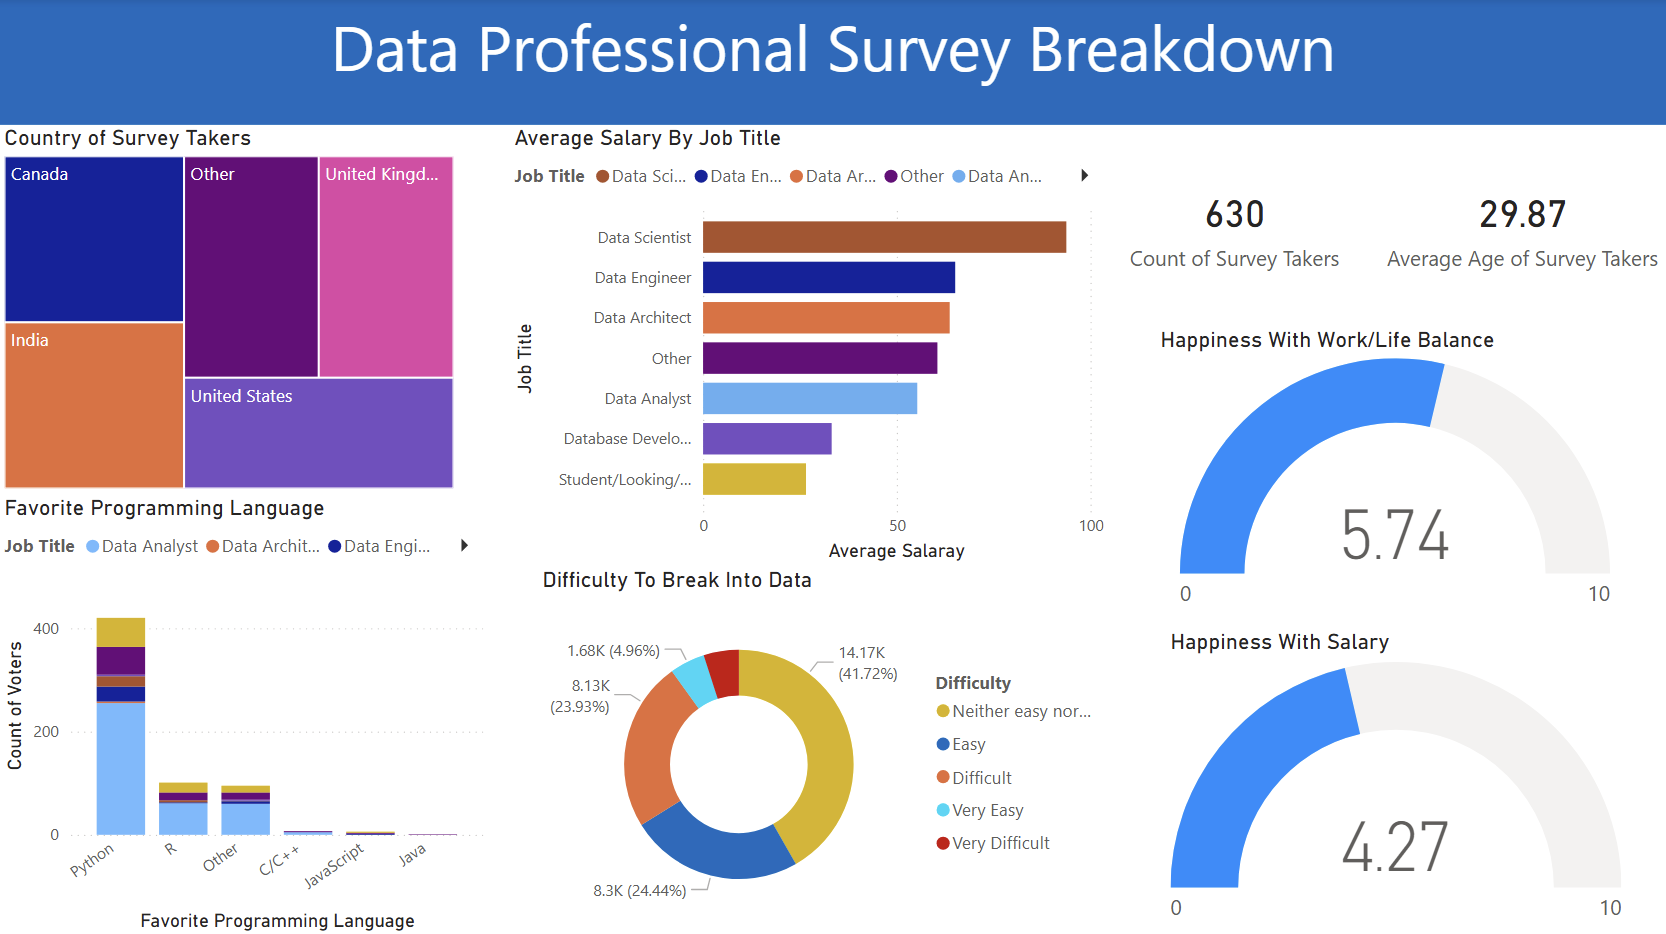

The page's visual inventory and layout, read from the dashboard file:
{"tool":"powerbi","page":{"name":"Page 1","canvas":[1280,720],"ordinal":0},"visuals":[{"type":"textbox","box":[0,0,1280,98],"z":0},{"type":"card","fields":{"Values":["CountNonNull(Data Professional Survey.Unique ID)"]},"box":[836.7,98,221.6,154.2],"z":1000},{"type":"card","fields":{"Values":["Avg(Data Professional Survey.Q10 - Current Age)"]},"box":[1058.4,98,221.6,154.2],"z":2000},{"type":"barChart","title":"Average Salary By Job Title","fields":{"Category":["Data Professional Survey.Q1 - Which Title Best Fits your Current Role?.1"],"Y":["Avg(Data Professional Survey.Average Salary)"],"Series":["Data Professional Survey.Q1 - Which Title Best Fits your Current Role?.1"]},"box":[390.9,98.1,461.4,338.8],"z":3000},{"type":"columnChart","title":"Favorite Programming Language","fields":{"Category":["Data Professional Survey.Q5 - Favorite Programming Language.1"],"Y":["CountNonNull(Data Professional Survey.Unique ID)"],"Series":["Data Professional Survey.Q1 - Which Title Best Fits your Current Role?.1"]},"box":[0,381.7,377.1,338.8],"z":4000},{"type":"treemap","title":"Country of Survey Takers ","fields":{"Group":["Data Professional Survey.Q11 - Which Country do you live in?.1"],"Values":["Count(Data Professional Survey.Q11 - Which Country do you live in?.1)"]},"box":[0,98.1,354.1,283.6],"z":5000},{"type":"gauge","title":"Happiness With Work/Life Balance","fields":{"Y":["Avg(Data Professional Survey.Q6 - How Happy are you in your Current Position with the following? (Work/Life Balance))"],"MinValue":["Min(Data Professional Survey.Q6 - How Happy are you in your Current Position with the following? (Work/Life Balance))1"],"MaxValue":["Max(Data Professional Survey.Q6 - How Happy are you in your Current Position with the following? (Work/Life Balance))2"]},"box":[886,252.9,369.4,225.3],"z":6000},{"type":"gauge","title":"Happiness With Salary","fields":{"Y":["Avg(Data Professional Survey.Q6 - How Happy are you in your Current Position with the following? (Salary))"],"MinValue":["Min(Data Professional Survey.Q6 - How Happy are you in your Current Position with the following? (Salary))"],"MaxValue":["Max(Data Professional Survey.Q6 - How Happy are you in your Current Position with the following? (Salary))"]},"box":[893.7,484.4,355.6,236.1],"z":7000},{"type":"donutChart","title":"Difficulty To Break Into Data","fields":{"Category":["Data Professional Survey.Q7 - How difficult was it for you to break into Data?"],"Y":["Sum(Data Professional Survey.Average Salary)"]},"box":[412.4,436.9,440,283.6],"z":7001}]}

Visuals, with their boxes in screenshot pixels (x1, y1, x2, y2), scaled from the page's 1280x720 canvas onto the 1666x934 screenshot:
textbox: 0,0,1665,127
card - CountNonNull(Data Professional Survey.Unique ID): 1089,127,1377,327
card - Avg(Data Professional Survey.Q10 - Current Age): 1378,127,1665,327
"Average Salary By Job Title" barChart: 509,127,1109,567
"Favorite Programming Language" columnChart: 0,495,491,933
"Country of Survey Takers " treemap: 0,127,461,495
"Happiness With Work/Life Balance" gauge: 1153,328,1634,620
"Happiness With Salary" gauge: 1163,628,1626,933
"Difficulty To Break Into Data" donutChart: 537,567,1109,933
